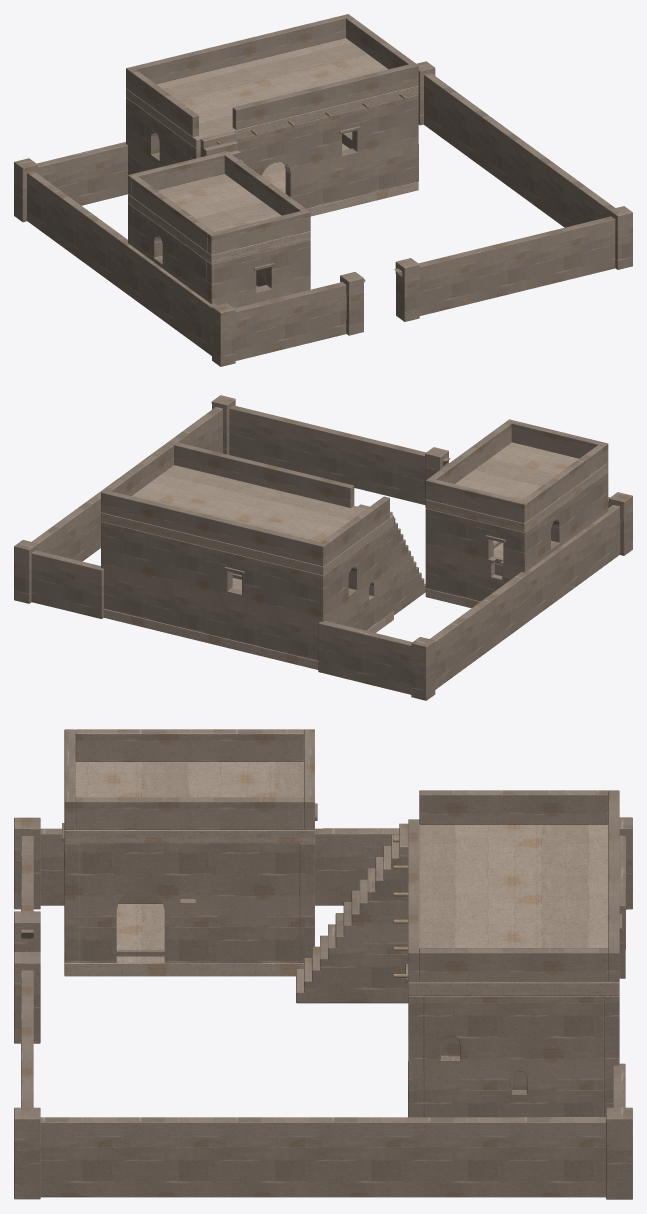
Rendered from court_18.glb.
3 renders of one model, top to bottom at view 1: azimuth 30°, elevation 25°; view 2: azimuth 150°, elevation 25°; view 3: azimuth 270°, elevation 25°, orthographic. The views are drawn at different scales.
Visible parts, largest first — view 1: court; view 2: court; view 3: court.
Boxes of the visible parts, x1,y1,x2,y2 form: court: (14, 14, 632, 366); court: (14, 395, 632, 700); court: (14, 729, 632, 1199).
Bounding box in the file's own units: 19.26 × 5.59 × 16.71.
Materials: 3 (3 with a texture image).
